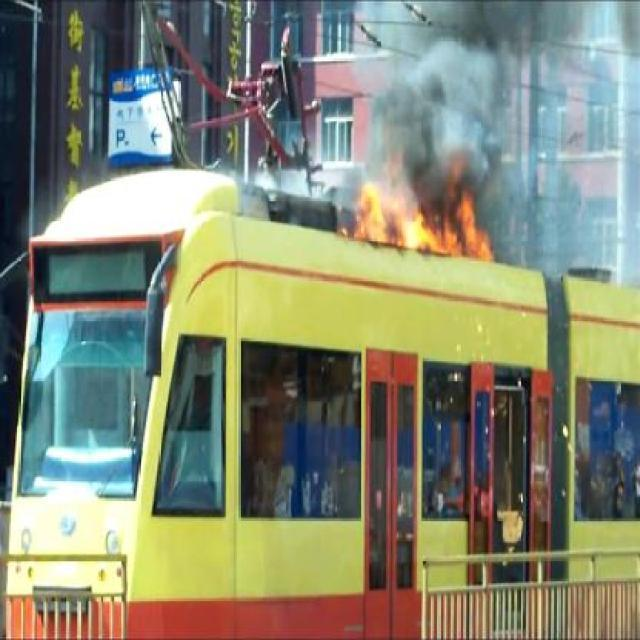Fire: (352, 168, 494, 269)
Smoke: (372, 2, 580, 158)
